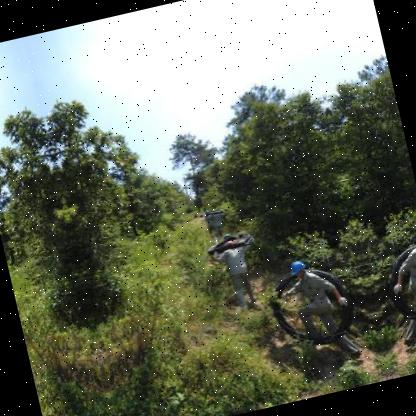capacete: (284, 254, 306, 278), (219, 230, 236, 245)
